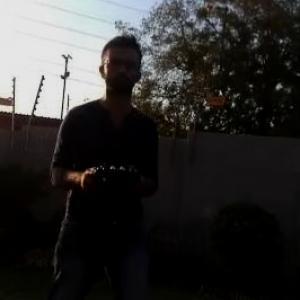follow: (37, 28, 164, 299)
